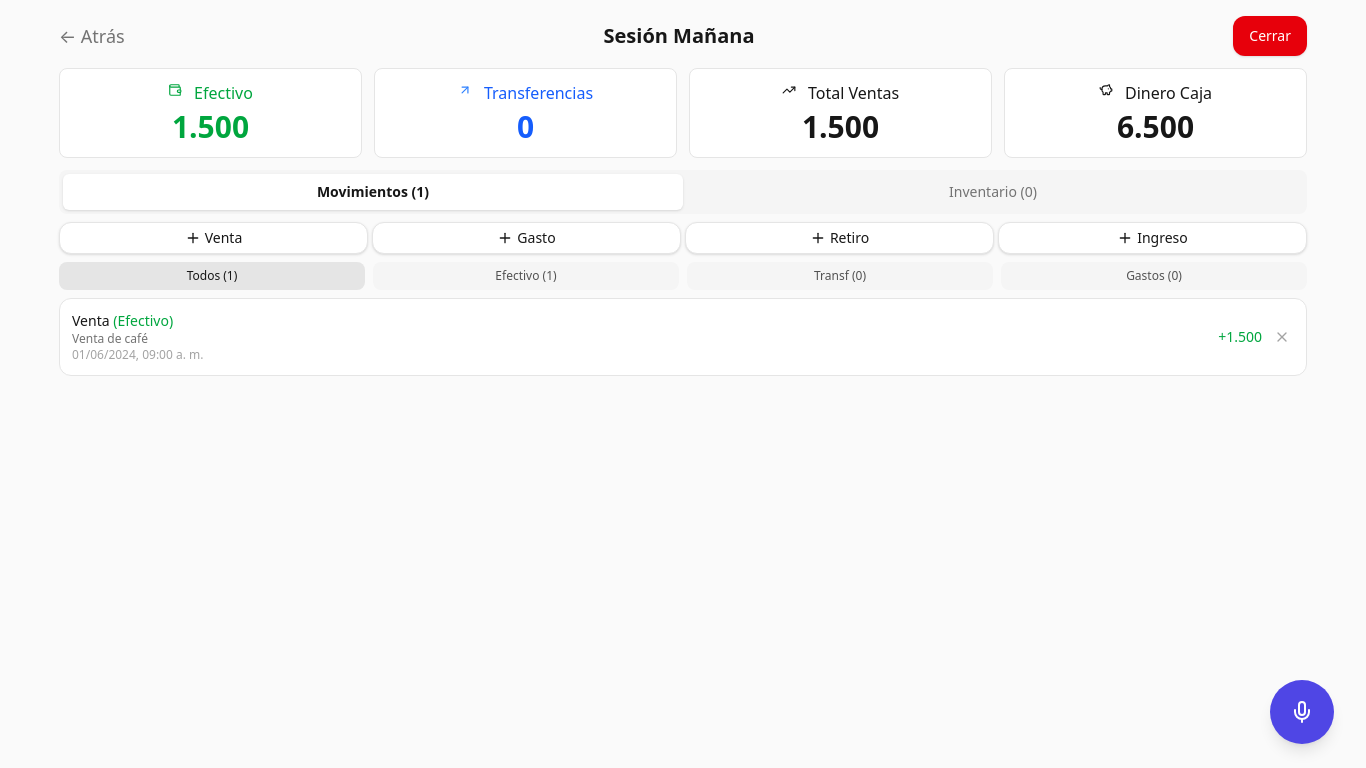
Test: SessionDetail › should show error when closing with invalid balance
Expected: the text "Sesión Mañana" is shown, [604, 22, 754, 50]
Click the button "Cerrar" at (1270, 36), box [1233, 16, 1307, 56]
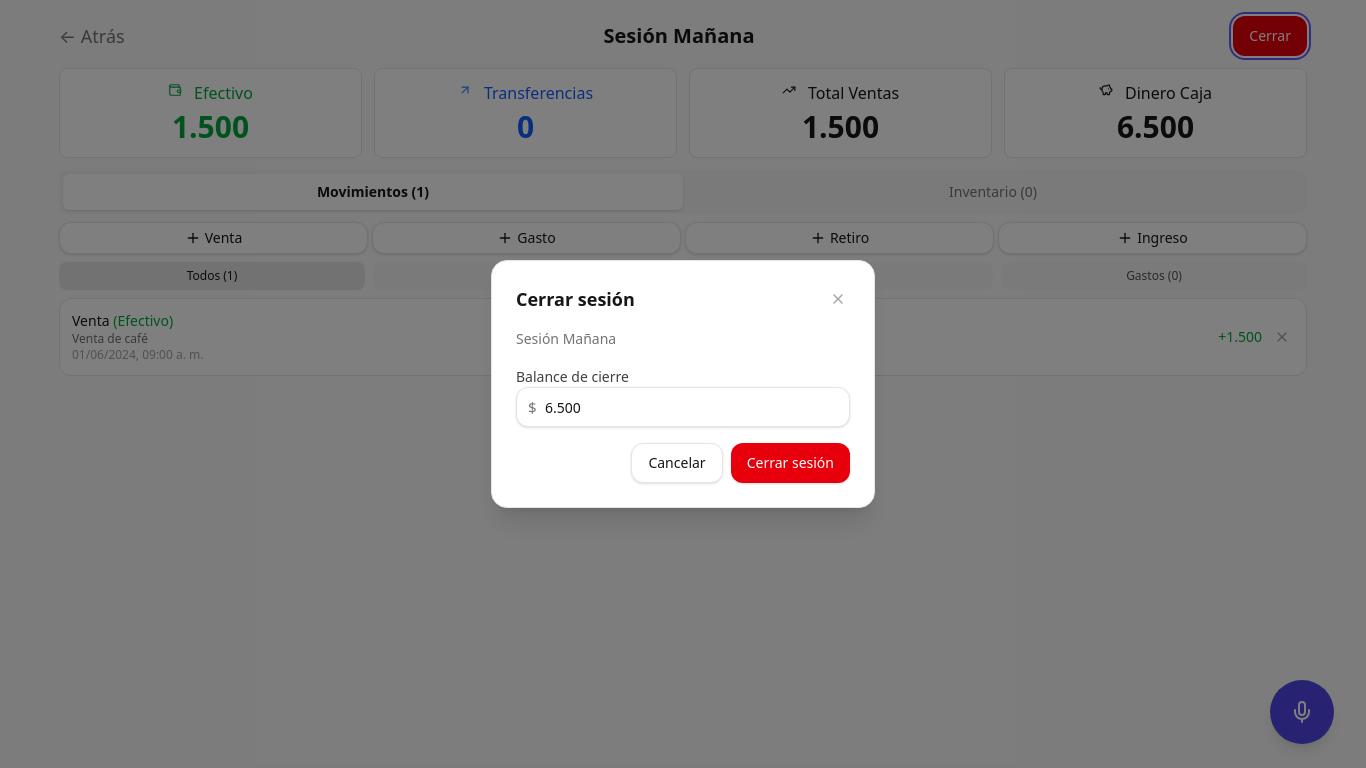
// Clear the pre-filled balance to trigger validation error
Clear the field at (683, 407), box [516, 387, 850, 427]
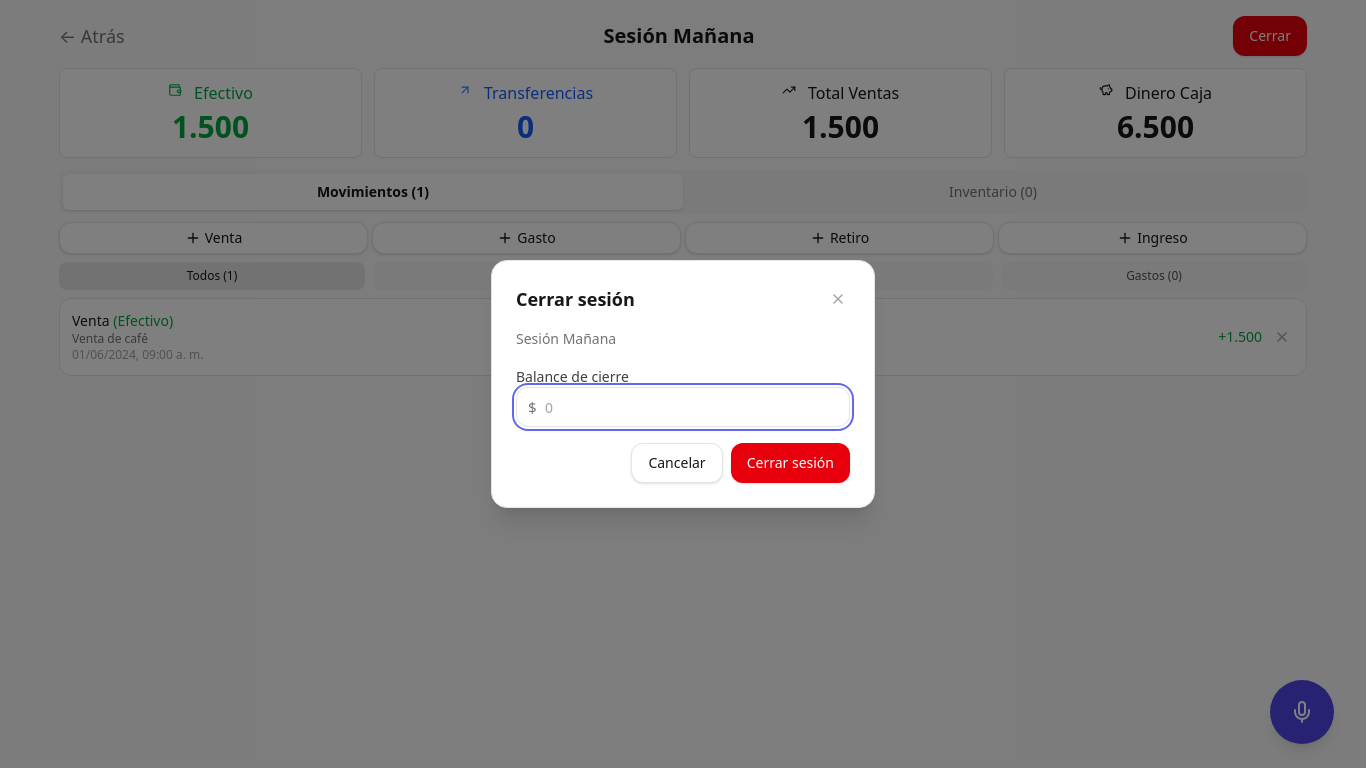
Click the button "Cerrar sesión" at (790, 463), box [731, 443, 850, 483]
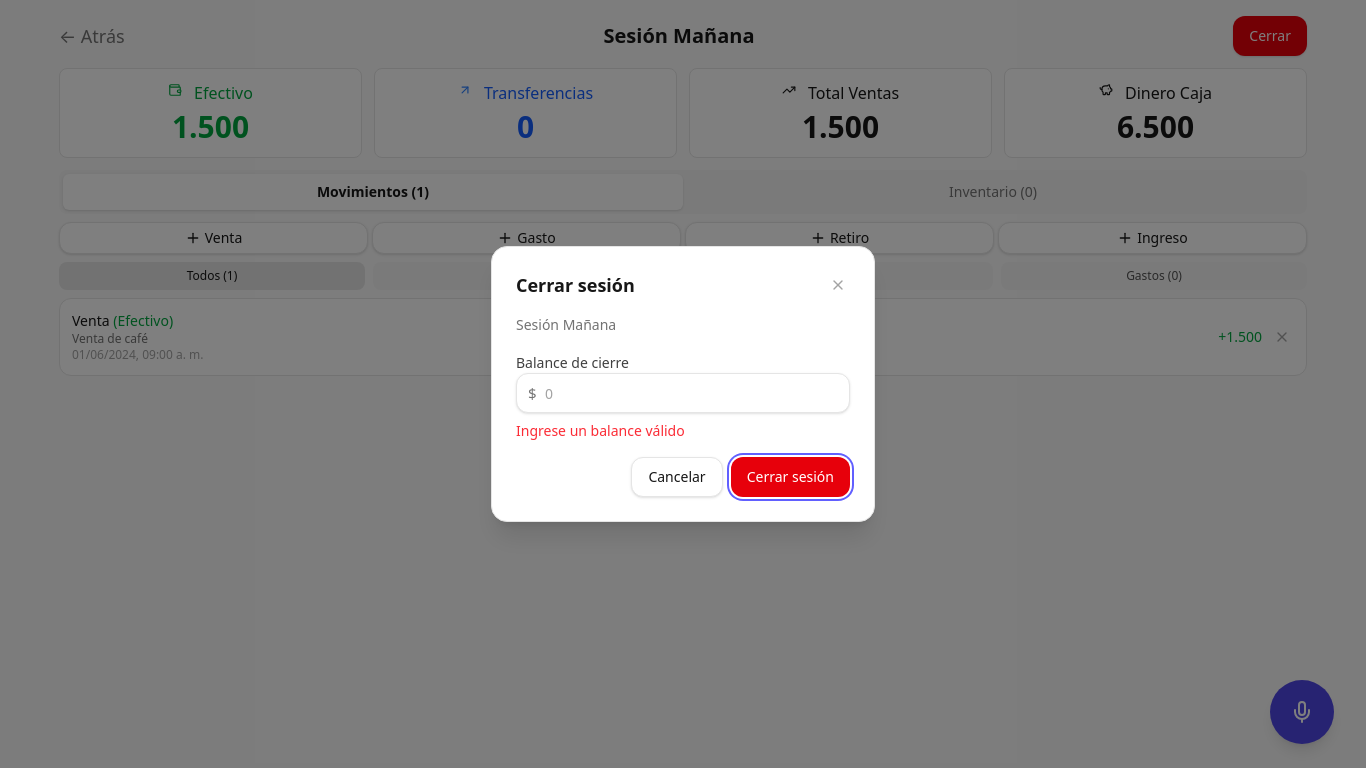
Now the text "Ingrese un balance válido" is shown, box [516, 421, 685, 440]
